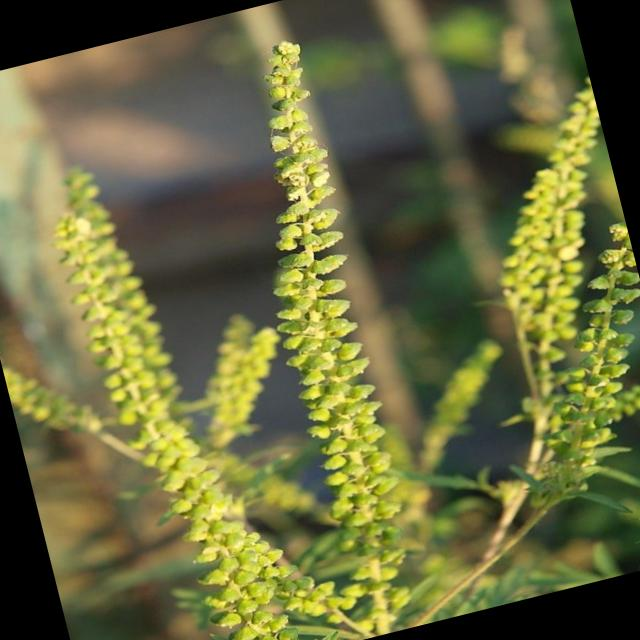ambrosia: (9, 152, 339, 640), (218, 30, 442, 564), (464, 82, 640, 460), (616, 459, 640, 568)
